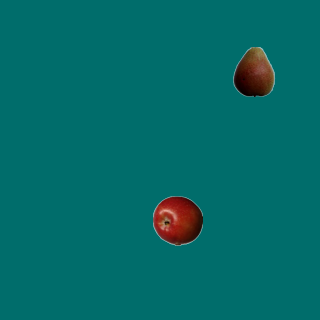Apple Braeburn: (152, 195, 202, 245)
Pear Forelle: (228, 46, 278, 96)
